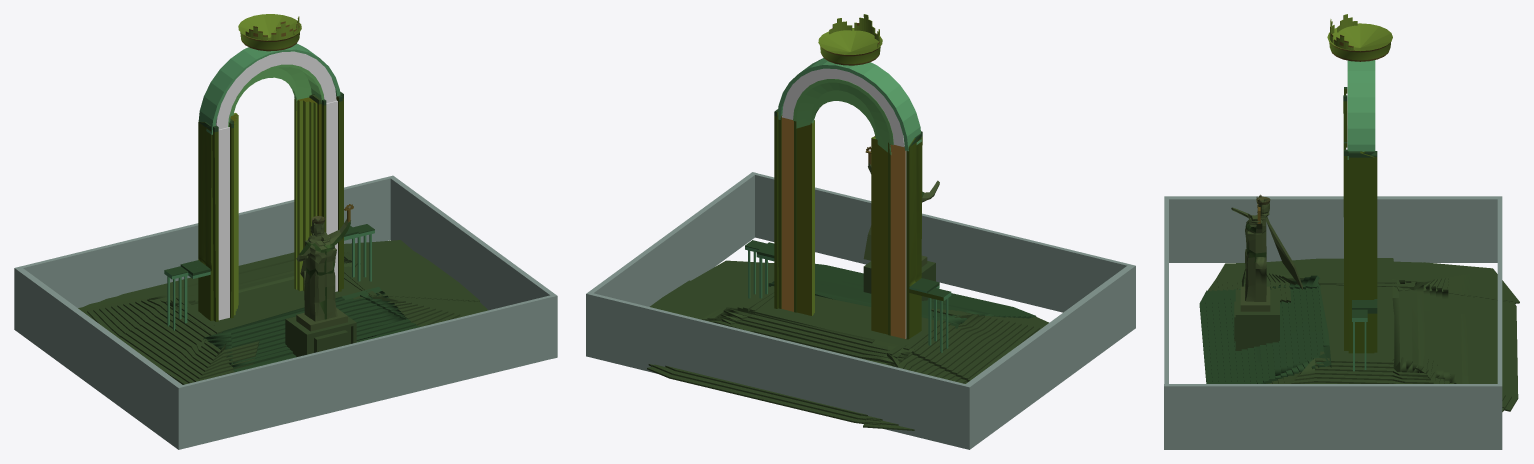
File: ismoil.glb
3 renders of one model, left to right at view 1: azimuth 30°, elevation 25°; view 2: azimuth 150°, elevation 25°; view 3: azimuth 270°, elevation 25°, orthographic. The views are drawn at different scales.
Visible parts, largest first — view 1: Arka, Stairs__1_, Stairs, Stairs__4_, Sides__4__1, Sides__4_, IsmoilSomoni, Pol, Stairs__3_, Stairs__5_, Sides, Arch__4_ (+13 smaller); view 2: Arka, Stairs__3_, Stairs__1_, Sides__4_, Stairs__4_, Sides__4__1, Stairs, Sides, Sides__6_, Pol, Arch__5_, Arch__4_ (+10 smaller); view 3: Arka, Stairs__3_, Stairs, Sides__6__1, Stairs__1_, Stairs__5_, Pol, Stairs__4_, Arch__4_, IsmoilSomoni, Cube__1_, Cylinder (+4 smaller).
Part boxes in pixels (bbox=[...]): Arka: bbox=[14, 175, 557, 449]; Stairs__1_: bbox=[118, 304, 259, 384]; Stairs: bbox=[203, 286, 420, 372]; Stairs__4_: bbox=[344, 240, 479, 301]; Sides__4__1: bbox=[294, 94, 321, 291]; Sides__4_: bbox=[164, 121, 213, 330]; IsmoilSomoni: bbox=[296, 218, 350, 321]; Pol: bbox=[176, 279, 362, 334]; Stairs__3_: bbox=[120, 252, 351, 308]; Stairs__5_: bbox=[78, 295, 214, 337]; Sides: bbox=[218, 127, 229, 320]; Arch__4_: bbox=[198, 43, 340, 134]; Arka: bbox=[586, 172, 1135, 449]; Stairs__3_: bbox=[647, 308, 914, 425]; Stairs__1_: bbox=[903, 308, 1048, 381]; Sides__4_: bbox=[906, 133, 951, 352]; Stairs__4_: bbox=[648, 280, 774, 367]; Sides__4__1: bbox=[797, 120, 814, 315]; Stairs: bbox=[768, 263, 1036, 328]; Sides: bbox=[890, 144, 906, 338]; Sides__6_: bbox=[871, 136, 887, 334]; Pol: bbox=[752, 295, 948, 348]; Arch__5_: bbox=[793, 79, 893, 154]; Arch__4_: bbox=[778, 58, 921, 151]; Arka: bbox=[1164, 196, 1502, 449]; Stairs__3_: bbox=[1392, 279, 1518, 411]; Stairs: bbox=[1199, 275, 1331, 383]; Sides__6__1: bbox=[1348, 151, 1374, 353]; Stairs__1_: bbox=[1208, 258, 1396, 302]; Stairs__5_: bbox=[1336, 261, 1519, 303]; Pol: bbox=[1320, 280, 1394, 360]; Stairs__4_: bbox=[1313, 355, 1506, 411]; Arch__4_: bbox=[1347, 60, 1375, 159]; IsmoilSomoni: bbox=[1231, 199, 1302, 301]; Cube__1_: bbox=[1234, 290, 1279, 350]; Cylinder: bbox=[1327, 23, 1392, 61].
Size of the model in its own units: 30.44 by 24.86 by 24.07.
